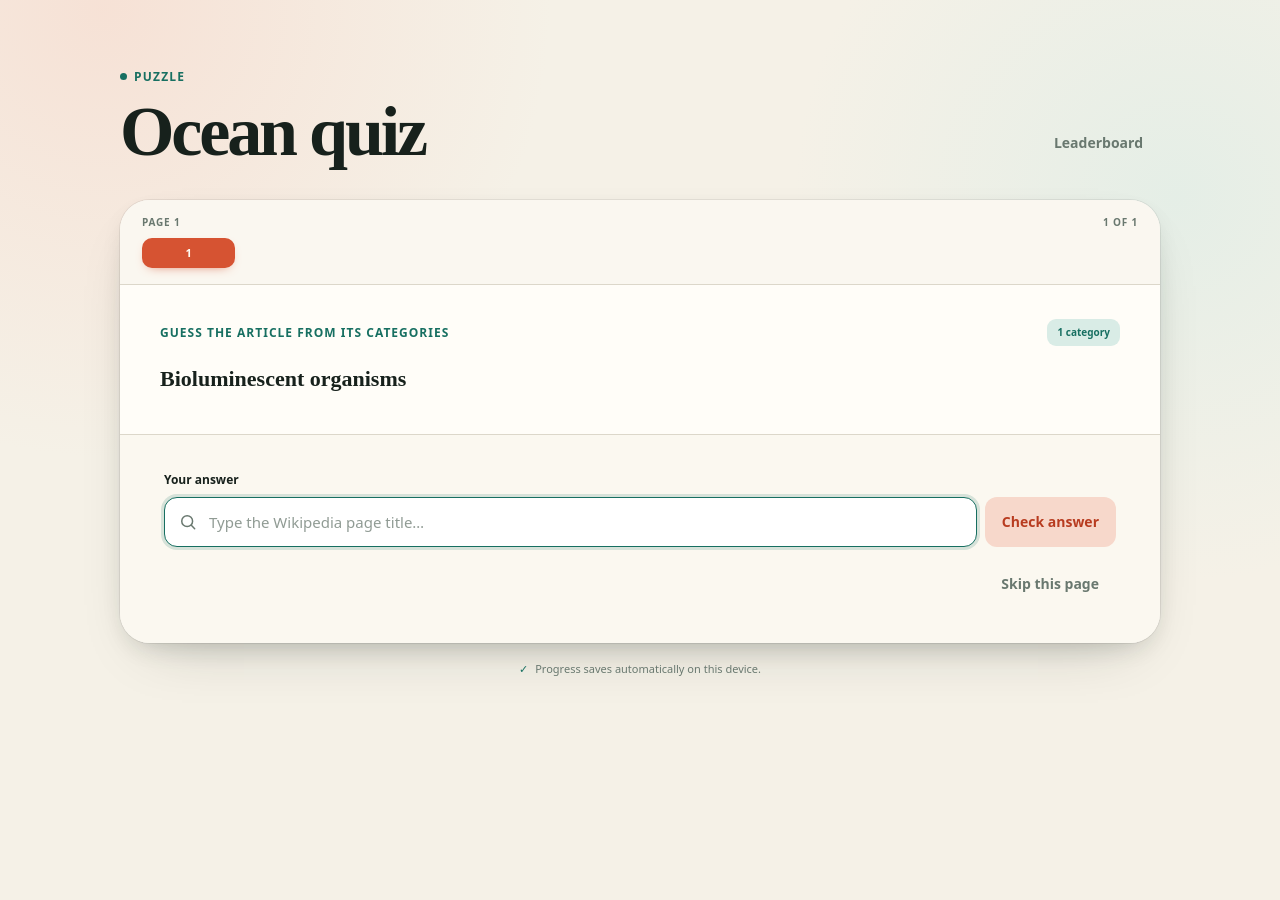
Scenario: skipping reveals the page before the player advances
Expected: the heading "Ocean quiz" is shown, [120,98,425,166]
Click the button "Skip this page". click: click(1050, 584)
box: [984,561,1116,607]
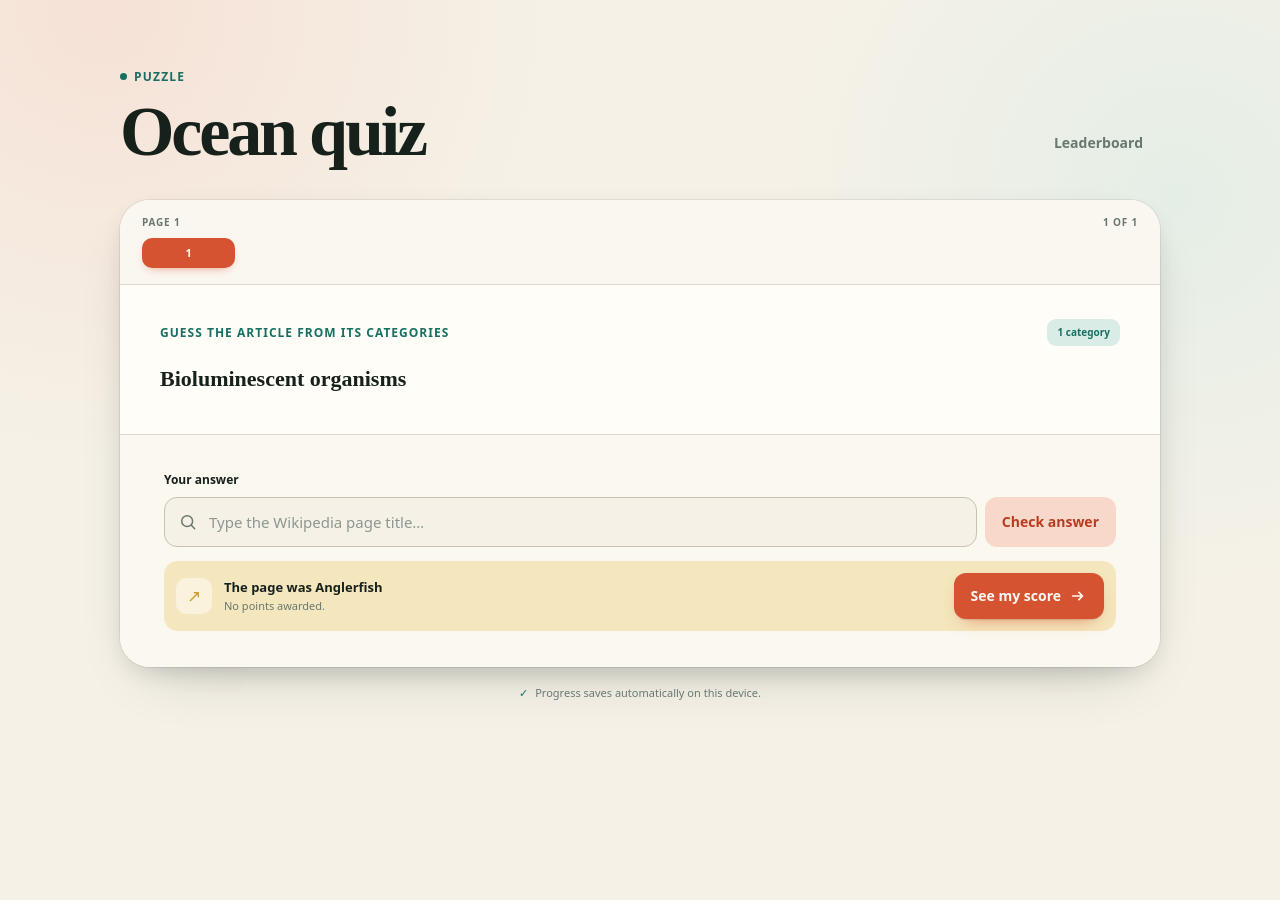
Expected: the text "Puzzle complete" is not shown
Now the text "The page was Anglerfish" is shown, box [224,578,383,596]
Click the button "See my score". click: click(1029, 596)
box: [954,573,1104,619]
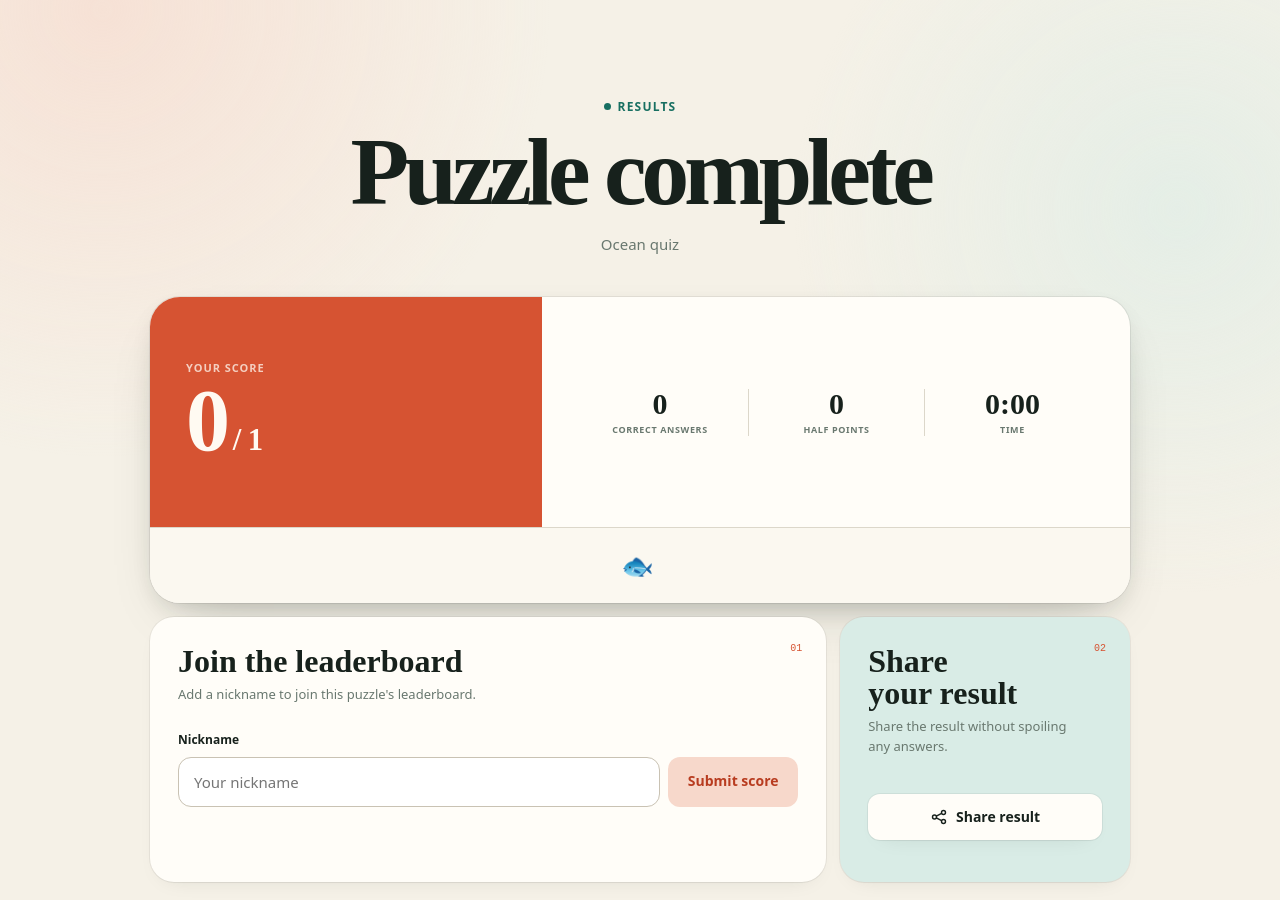
Now the element named "Final score 0 out of 1" is shown, box [150,297,1130,603]
